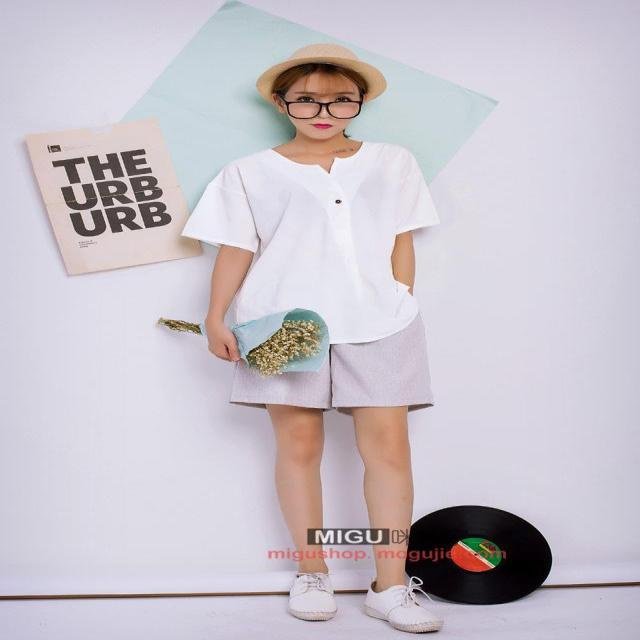short sleeve top: (182, 141, 442, 345)
shorts: (232, 281, 432, 410)
